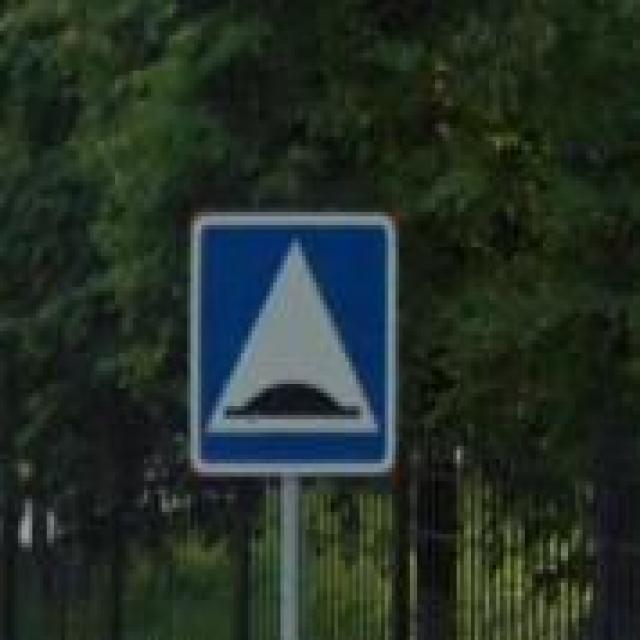road_rough: (187, 208, 395, 477)
